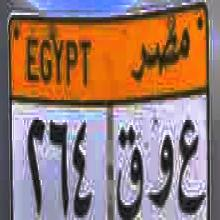2: (27, 116, 45, 211)
4: (74, 121, 92, 218)
6: (49, 118, 70, 216)
ain: (178, 117, 200, 219)
qaaf: (117, 123, 143, 220)
waw: (148, 128, 176, 212)
